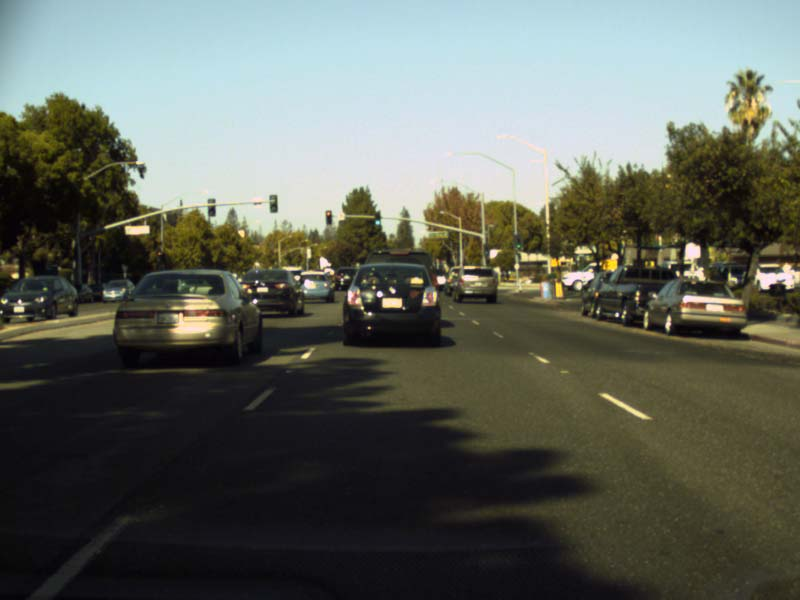Green: (514, 236, 521, 249), (374, 212, 380, 226), (482, 243, 488, 256)
Red: (156, 248, 163, 263), (325, 210, 331, 225)
